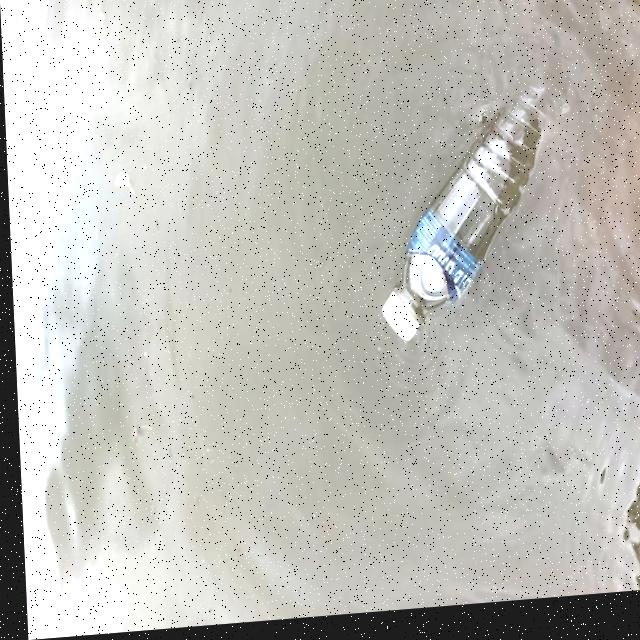waterbottle: (347, 82, 570, 380)
